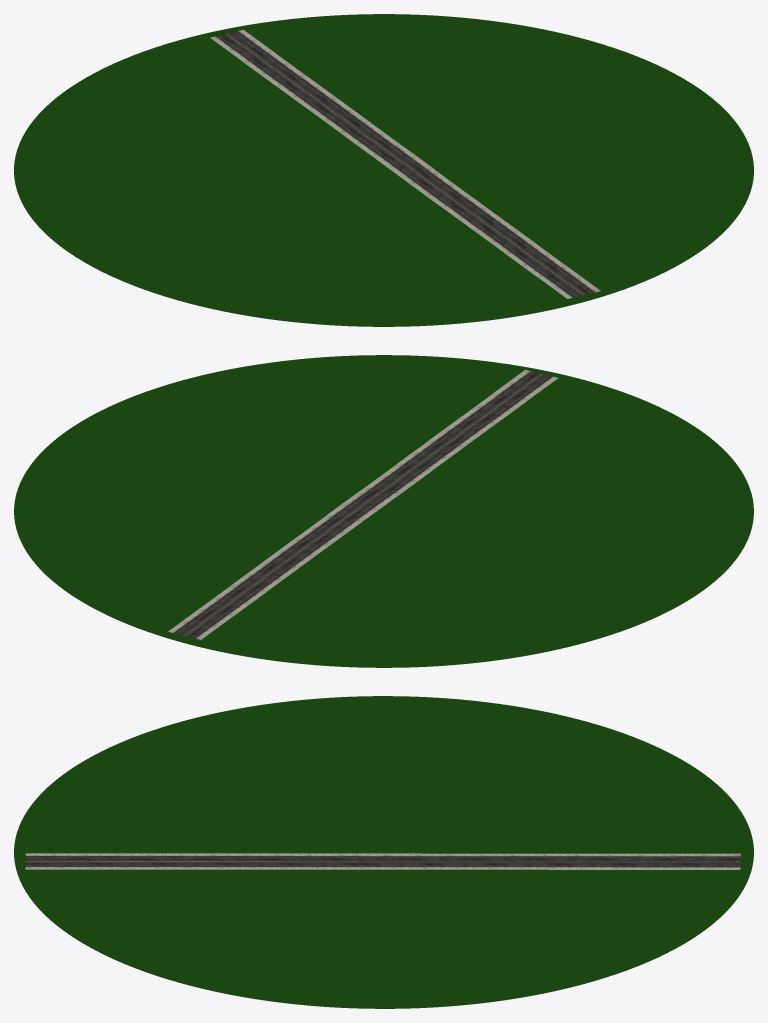
File: road.glb
3 views of the same model, one above another, from view 1: azimuth 30°, elevation 25°; view 2: azimuth 150°, elevation 25°; view 3: azimuth 270°, elevation 25° (orthographic).
Parts seen in each view (by area): view 1: road_03__0.001, road_03__0.002; view 2: road_03__0.001, road_03__0.002; view 3: road_03__0.001, road_03__0.002.
Boxes of the visible parts, x1=… form: road_03__0.001: x1=14, y1=14, x2=753, y2=326; road_03__0.002: x1=210, y1=29, x2=434, y2=177; road_03__0.001: x1=14, y1=355, x2=753, y2=667; road_03__0.002: x1=168, y1=491, x2=392, y2=639; road_03__0.001: x1=14, y1=696, x2=753, y2=1008; road_03__0.002: x1=357, y1=853, x2=740, y2=869.
Bounding box in the file's own units: 16.04 × 0.0339 × 16.04.
2 materials, 1 textured.
